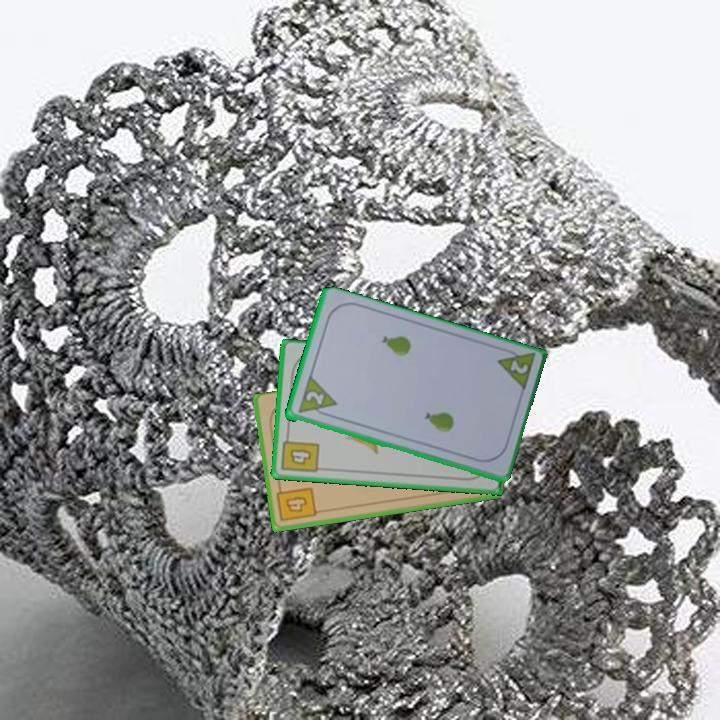2p: (302, 388, 327, 408), (506, 357, 531, 377)
4b: (278, 430, 322, 476), (273, 482, 319, 524)
